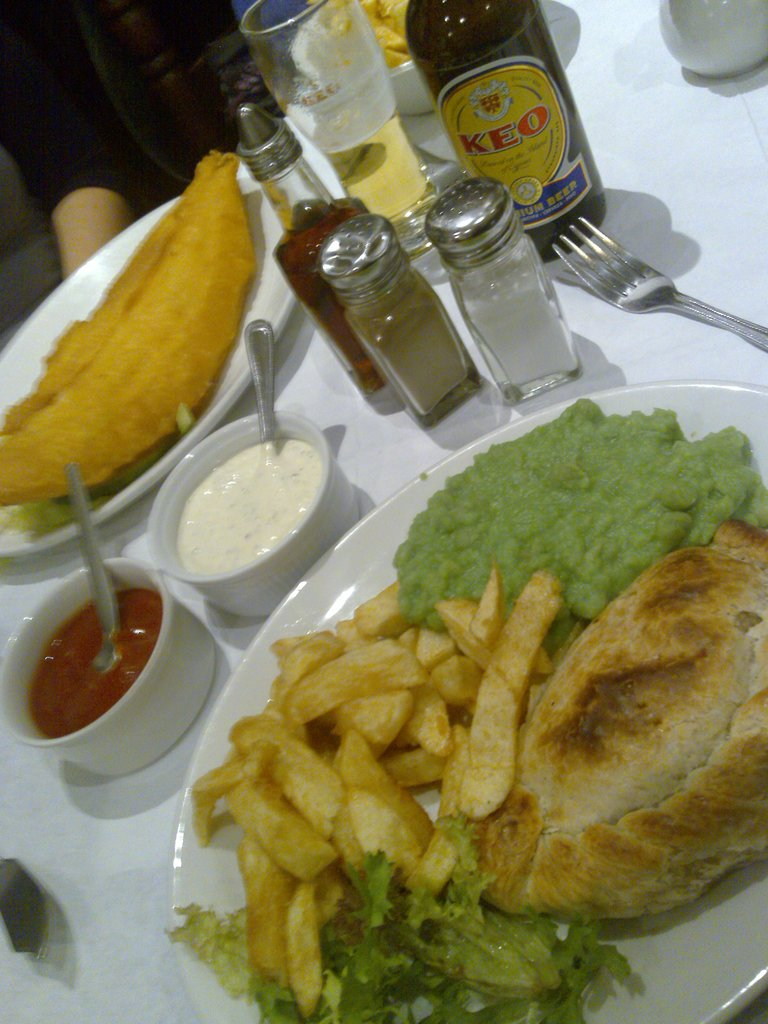French fries: (101, 575, 577, 1021)
